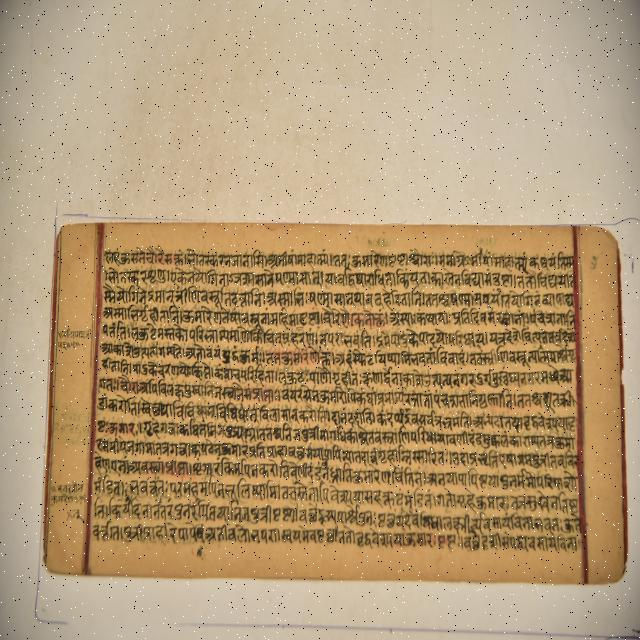text_paragraph: (52, 223, 625, 578)
